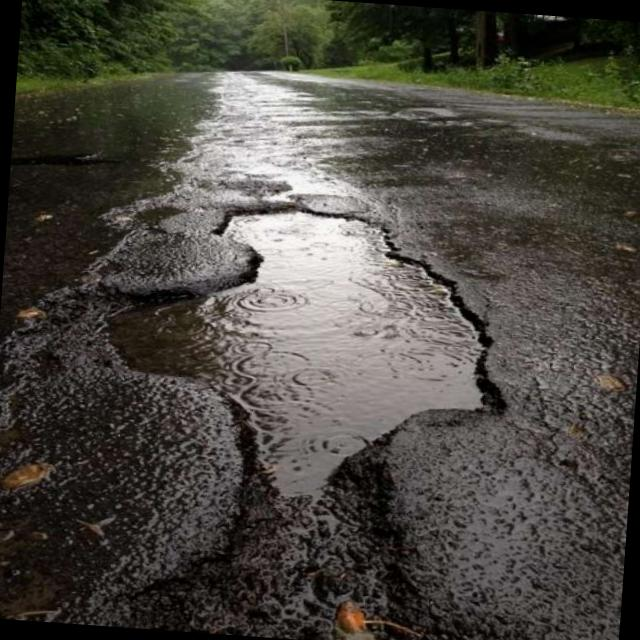bad-road: (65, 191, 561, 640)
